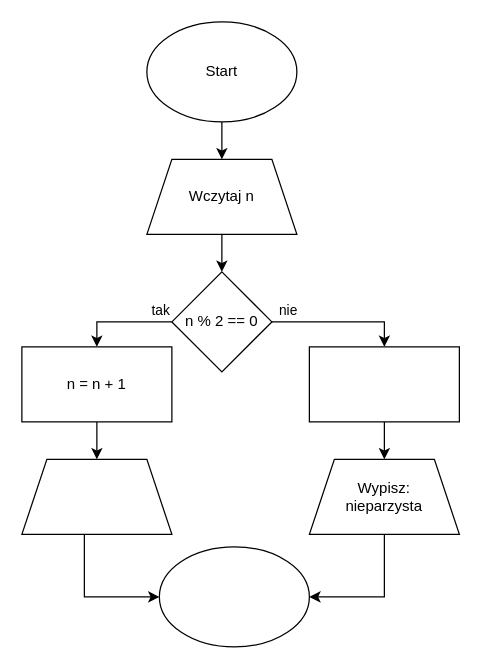
Some shapes in this 481 by 669 pixel diagram are drawn without their labels. Each missing label, with the box of its shape:
n = n - 1: (308, 346, 459, 422)
STOP: (158, 546, 309, 647)
Wypisz: parzysta: (21, 458, 172, 534)
